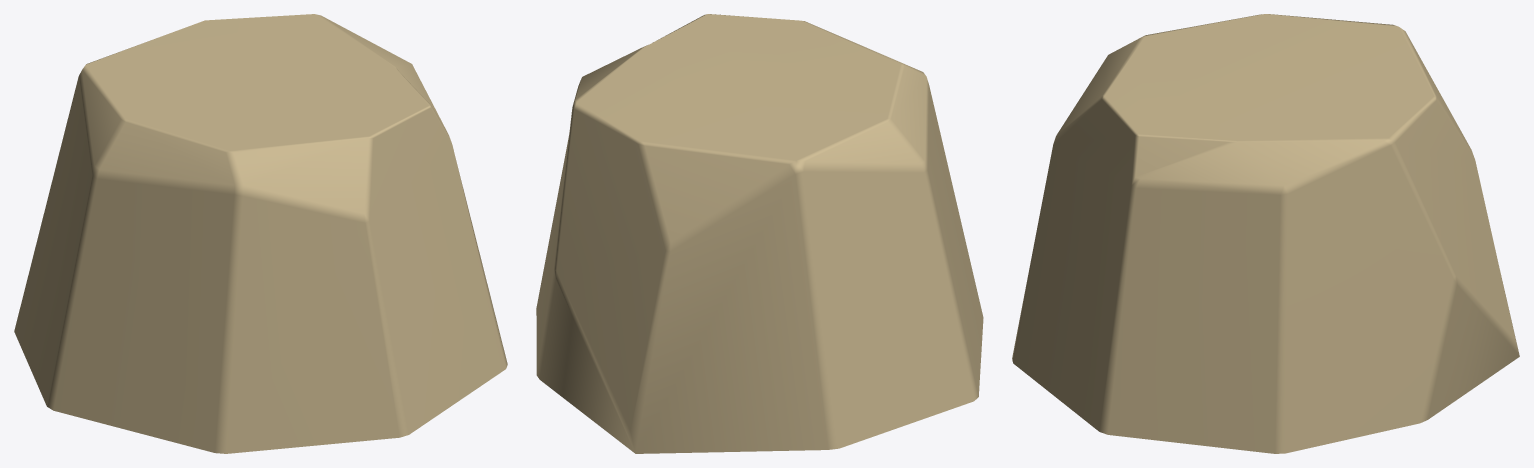
The model's file is PlatformRock_3.fbx.
3 views of the same model, side by side, from view 1: azimuth 30°, elevation 25°; view 2: azimuth 150°, elevation 25°; view 3: azimuth 270°, elevation 25° (orthographic). The views are drawn at different scales.
Parts seen in each view (by area): view 1: Cube.035; view 2: Cube.035; view 3: Cube.035.
Part boxes in pixels (left/top/right/bottom): Cube.035: left=14, top=14, right=507, bottom=453; Cube.035: left=536, top=14, right=983, bottom=453; Cube.035: left=1012, top=14, right=1519, bottom=453.
Bounding box in the file's own units: 343 × 212 × 348.
